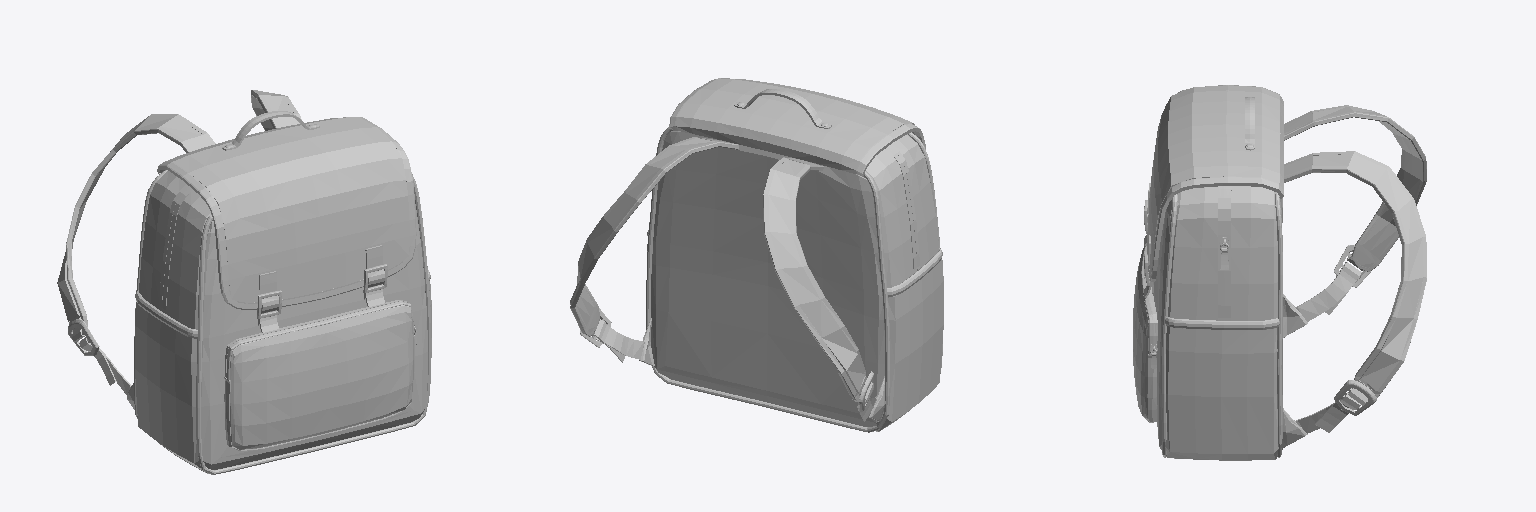
The model's file is shader8.obj.
The picture shows the model from 3 angles: view 1: azimuth 30°, elevation 25°; view 2: azimuth 150°, elevation 25°; view 3: azimuth 270°, elevation 25°; orthographic projection.
Parts seen in each view (by area): view 1: shader8; view 2: shader8; view 3: shader8.
Boxes of the visible parts, box(x1,y1,x2,y2) form: shader8: box(57, 90, 431, 474); shader8: box(570, 78, 943, 432); shader8: box(1133, 85, 1426, 460).
Bounding box in the file's own units: 2.52 × 2.59 × 2.26.